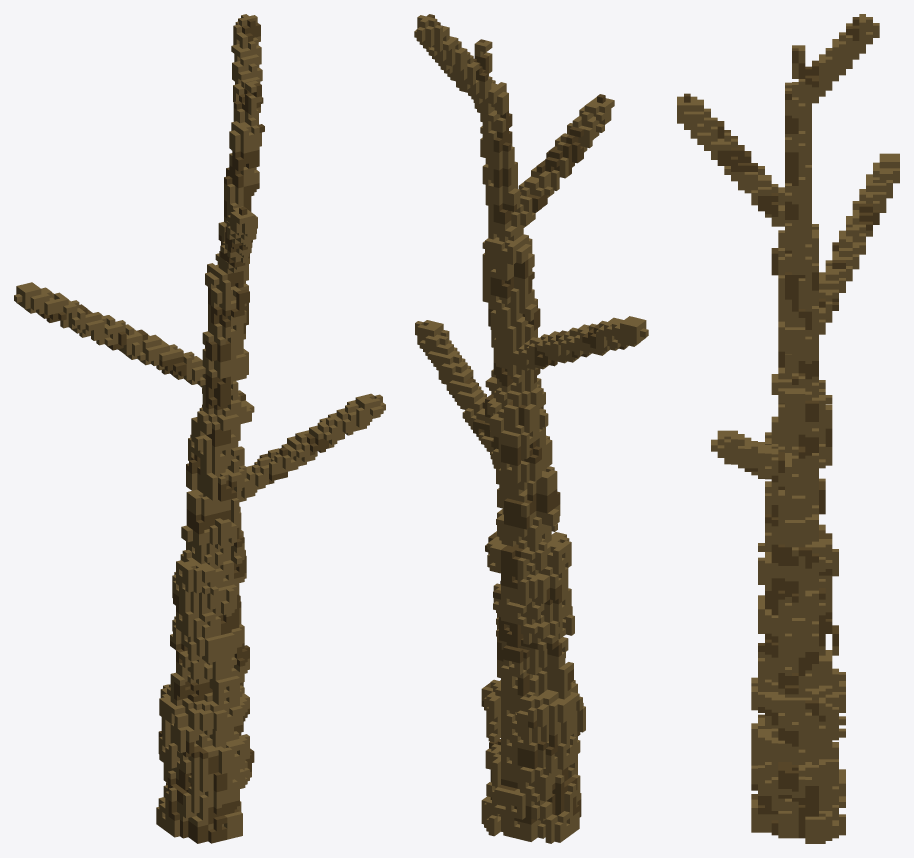
Rendered from tree_dunes_2.obj.
3 renders of one model, left to right at view 1: azimuth 30°, elevation 25°; view 2: azimuth 150°, elevation 25°; view 3: azimuth 270°, elevation 25°, orthographic. The views are drawn at different scales.
Size of the model in its own units: 1.38 by 3.45 by 0.825.
Materials: 1 (1 with a texture image).
